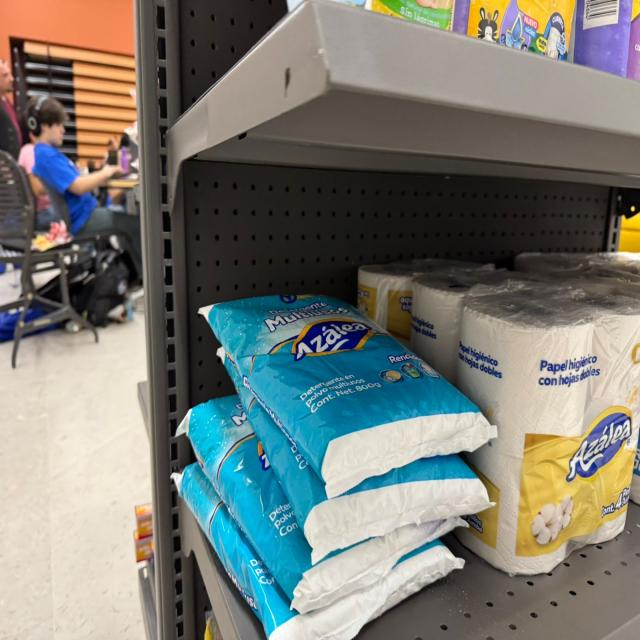DETERGENTE AZALEA MULTIUSOS 800G: (175, 393, 470, 614), (218, 346, 496, 566), (199, 289, 495, 483), (171, 460, 468, 639)
PAPEL HIGIENICO AZALEA 4 ROLLOS 350 HOJAS: (453, 286, 640, 578), (407, 270, 550, 383), (356, 257, 494, 340)
